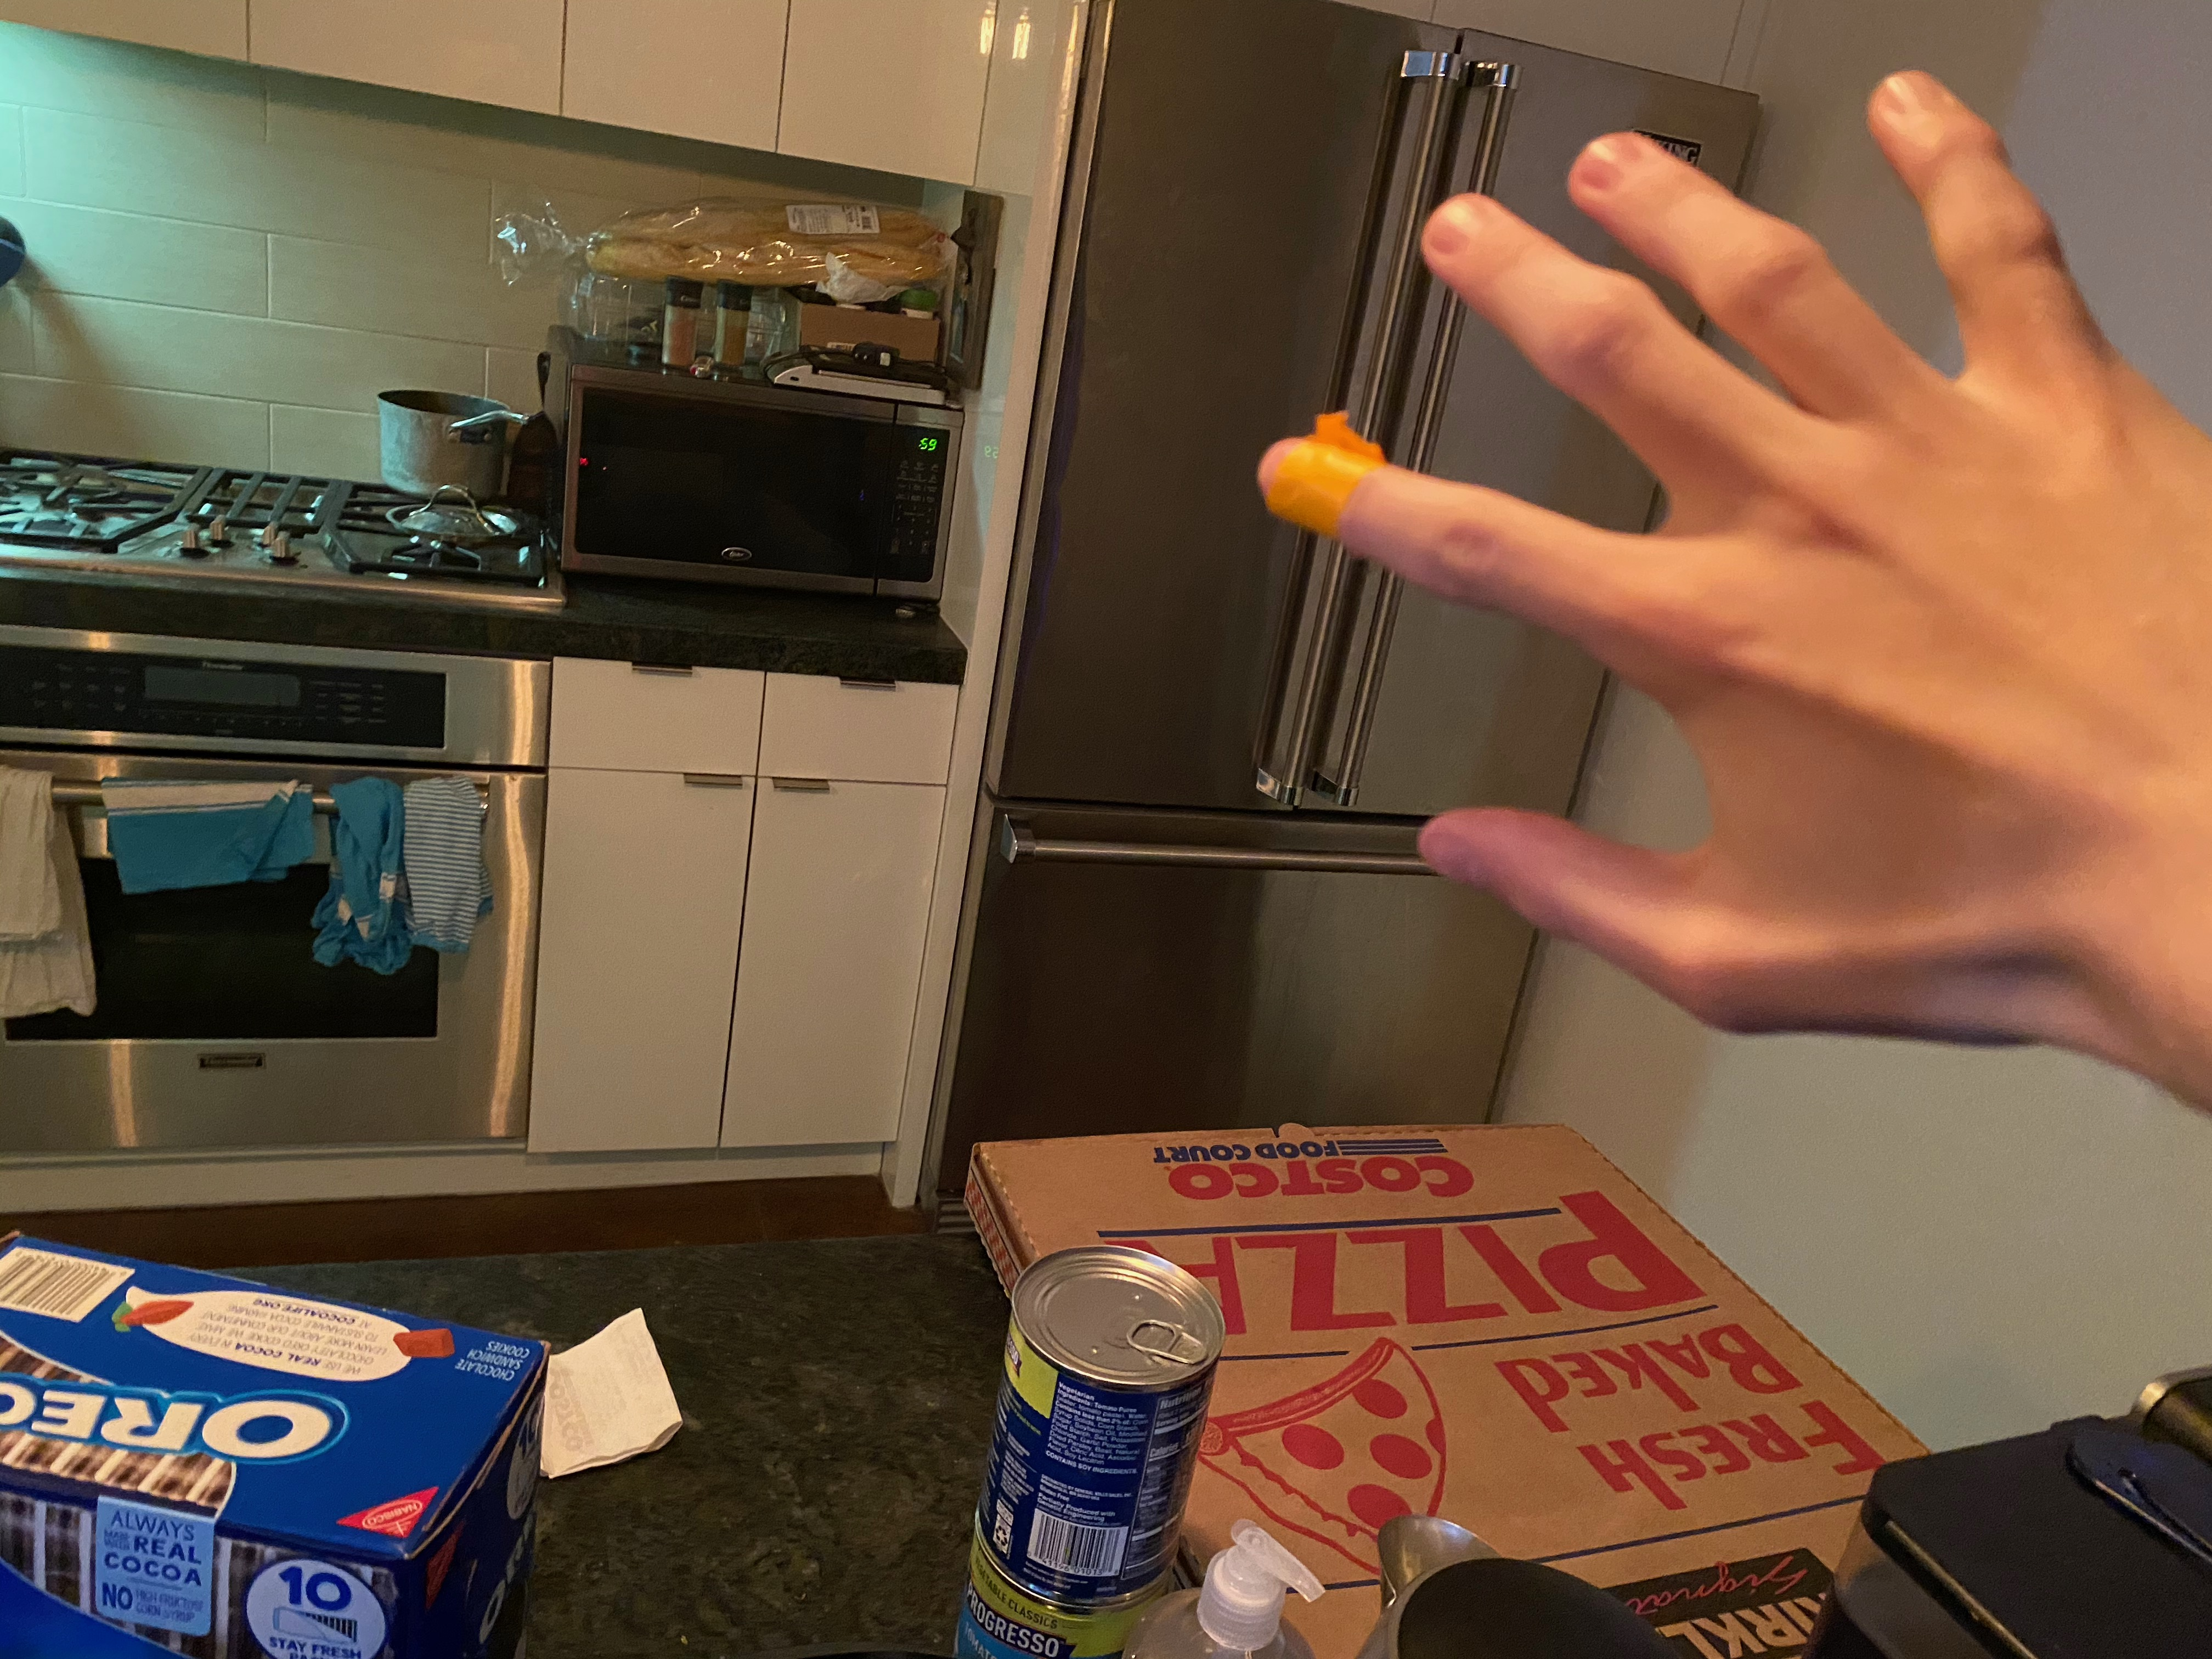fingertip: (1240, 396, 1399, 558)
